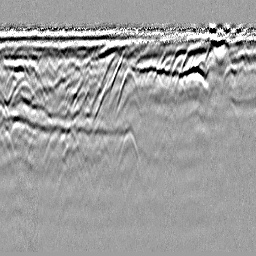cavity: (114, 65, 140, 111)
